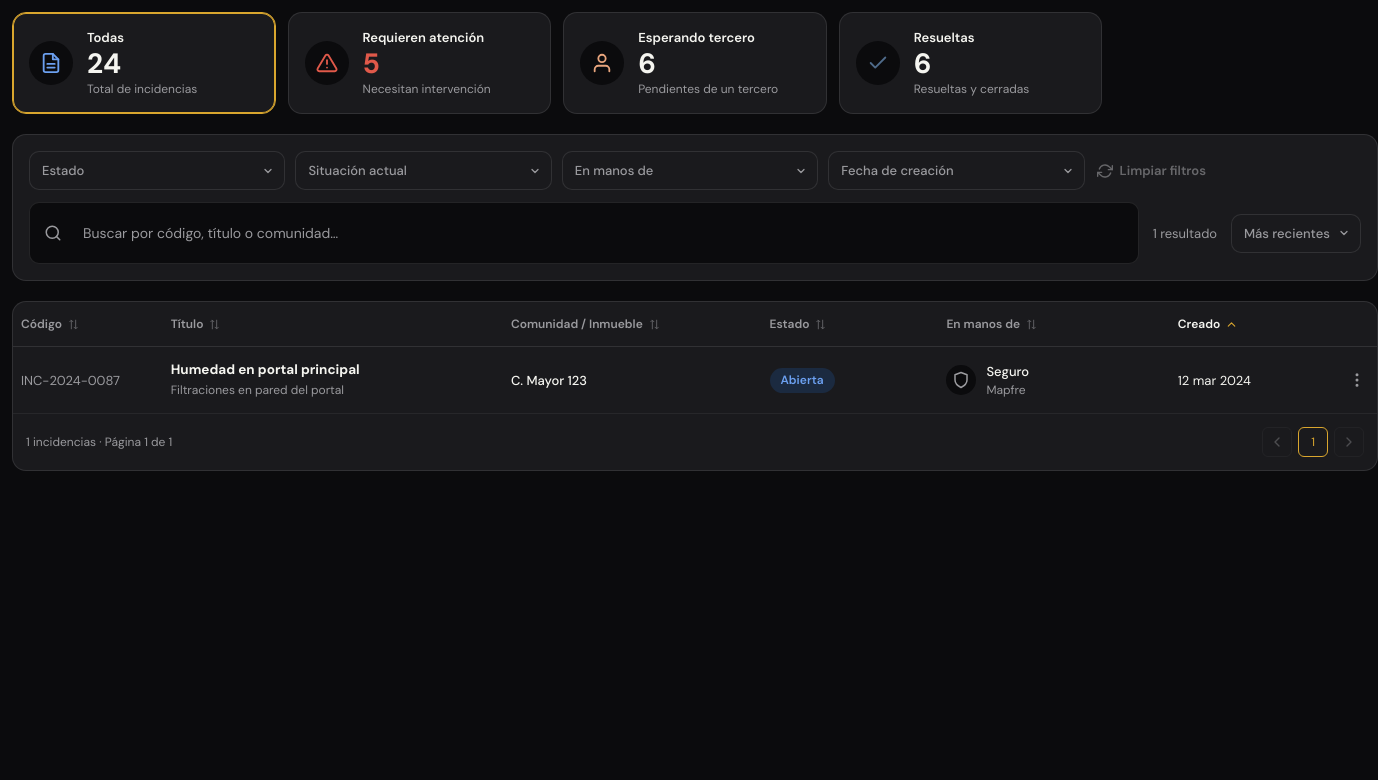
Scenario: IssuesListComponent › changes the status from the row menu, never to the one it already has
Click the button with class "row-menu__trigger" at [1357, 380], box [1341,364,1373,396]
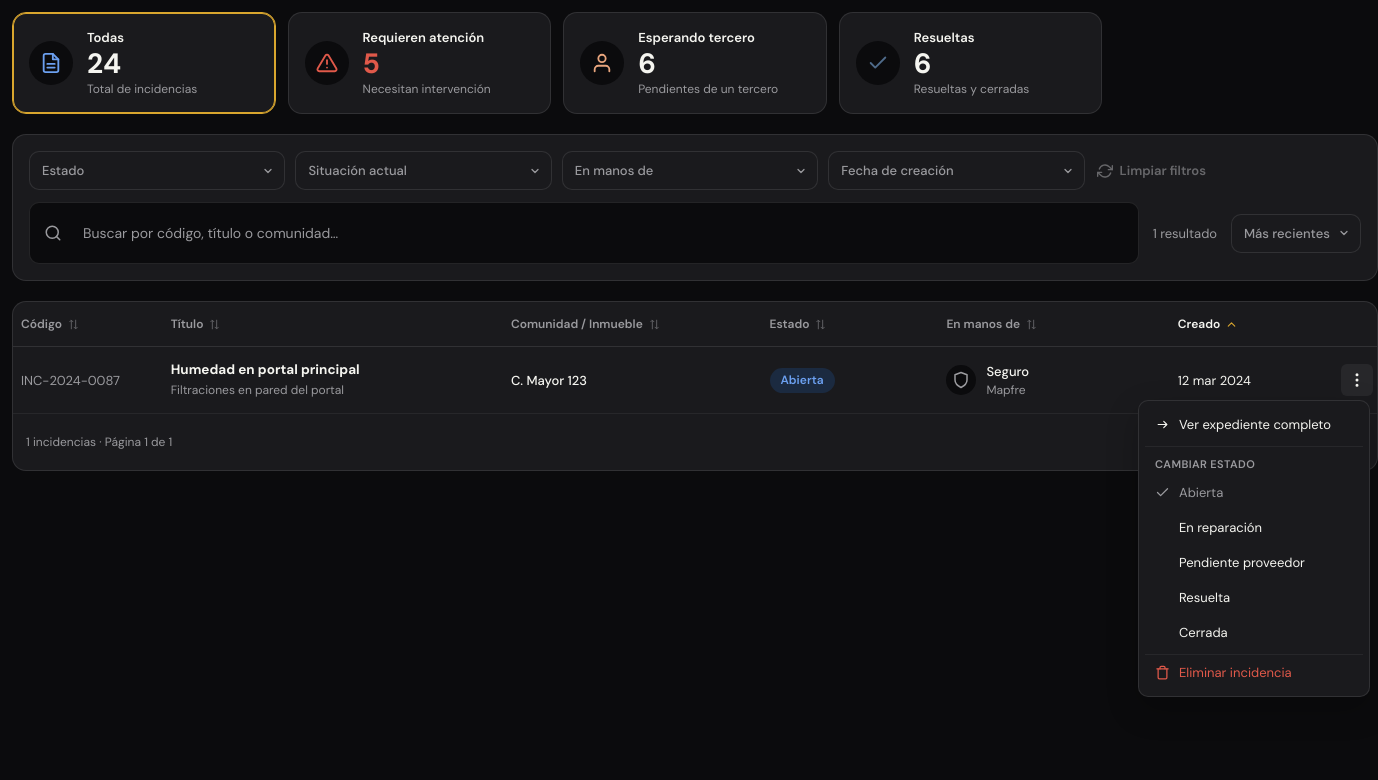
Expected: the menu item "Abierta" is disabled, [1145,475,1363,510]
Click the menu item "En reparación" at [1254, 528], box [1145,510,1363,545]
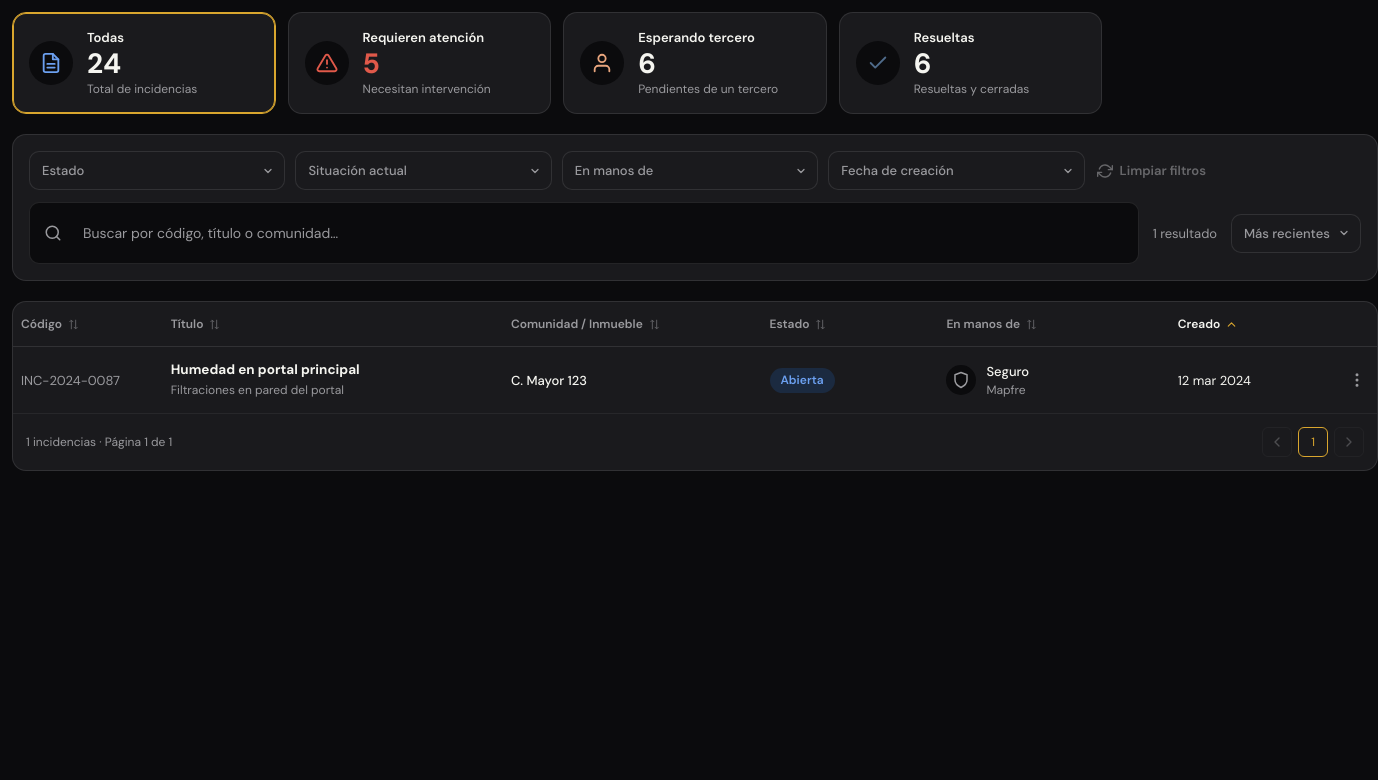
Expected: the menu with class "row-menu" is gone
